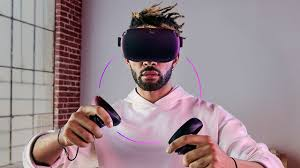oculus: (116, 28, 183, 64)
